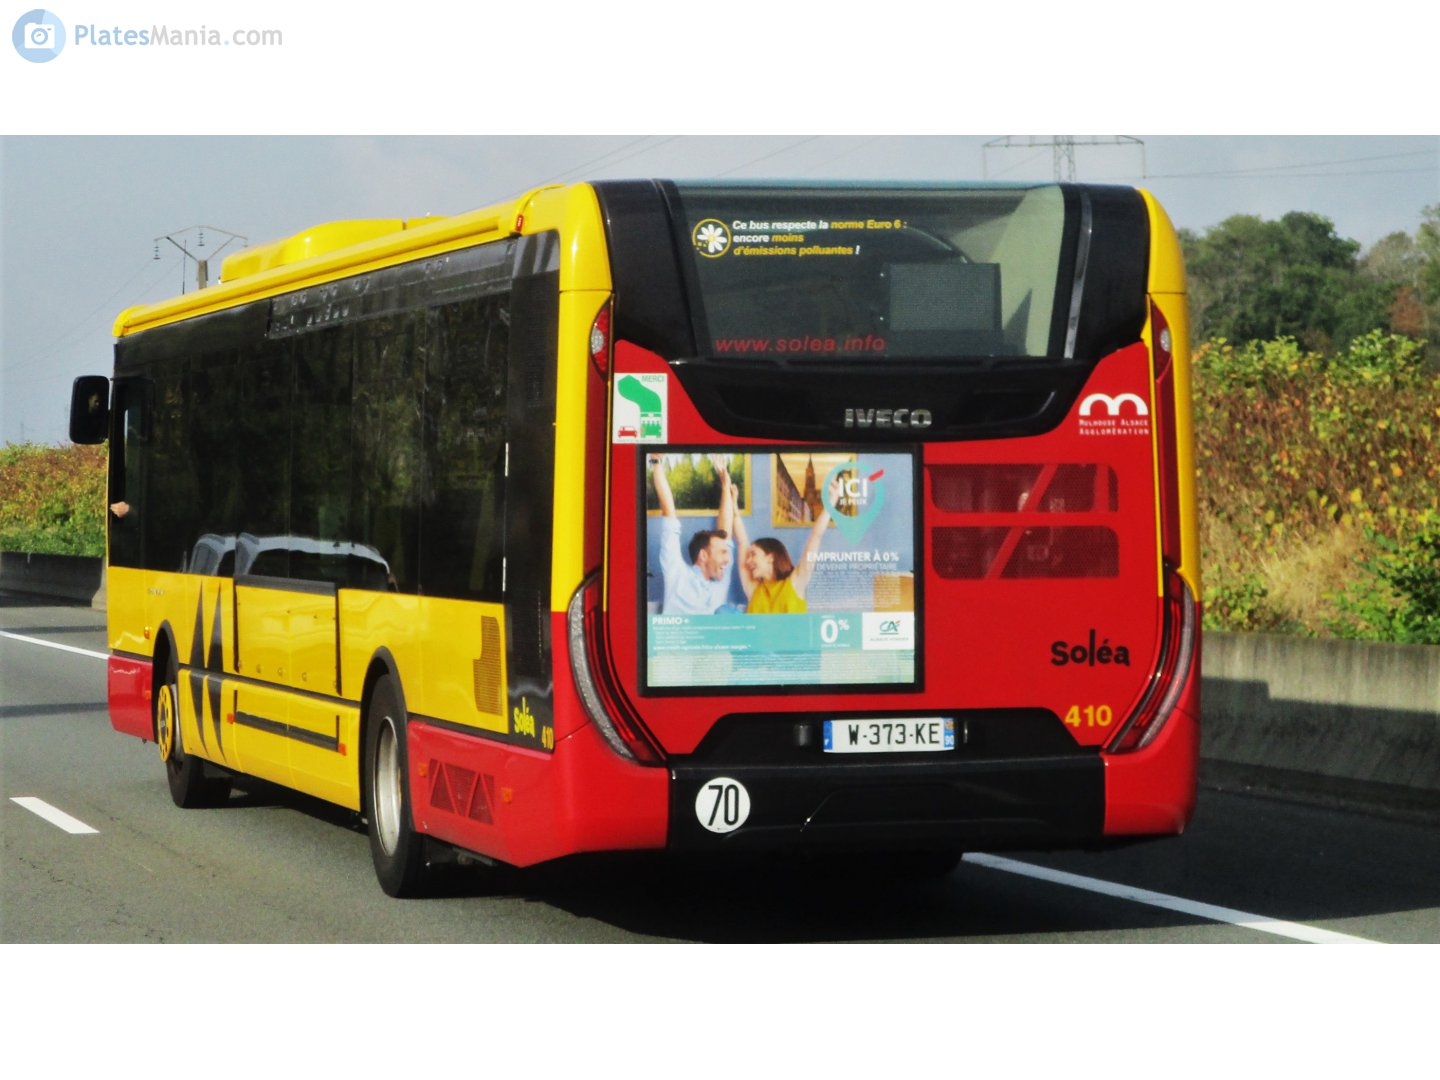licence plate: (818, 711, 960, 758)
